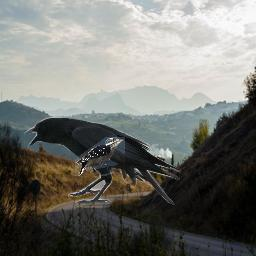Crow: (24, 117, 182, 205)
Woodpecker: (75, 137, 125, 176)
